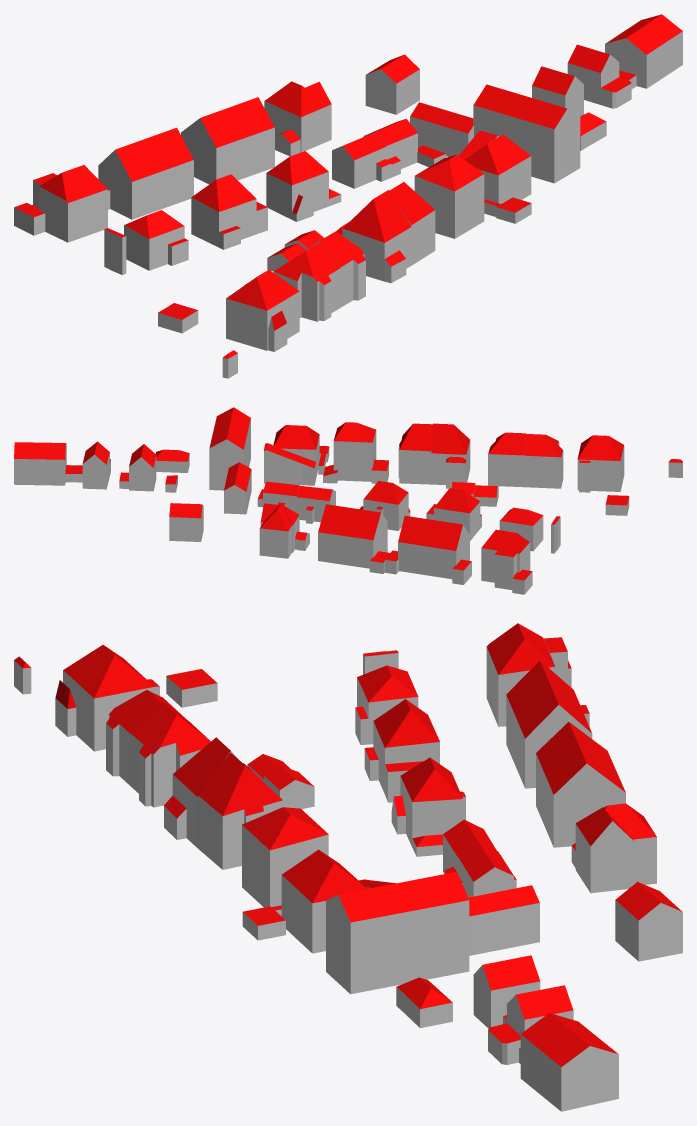
3 views of the same model, one above another, from view 1: azimuth 30°, elevation 25°; view 2: azimuth 150°, elevation 25°; view 3: azimuth 270°, elevation 25° (orthographic). The views are drawn at different scales.
Size of the model in its own units: 157 by 15.6 by 103.
